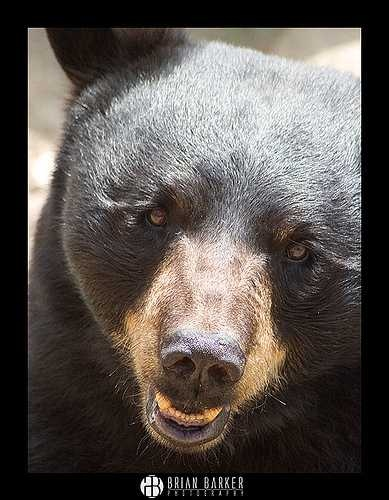bear: (129, 320, 257, 448), (103, 167, 231, 295), (224, 189, 352, 317), (49, 1, 177, 128)
